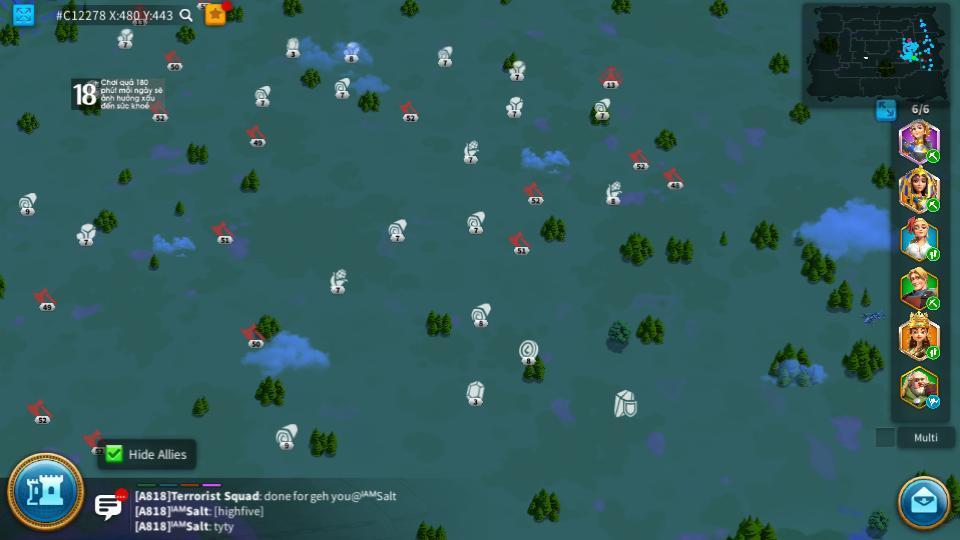gem-z-out: (465, 380, 485, 403)
march_farming: (925, 197, 941, 212)
march_idle: (925, 396, 942, 408)
march_marching: (925, 150, 942, 162), (925, 347, 941, 359), (925, 297, 942, 308)
